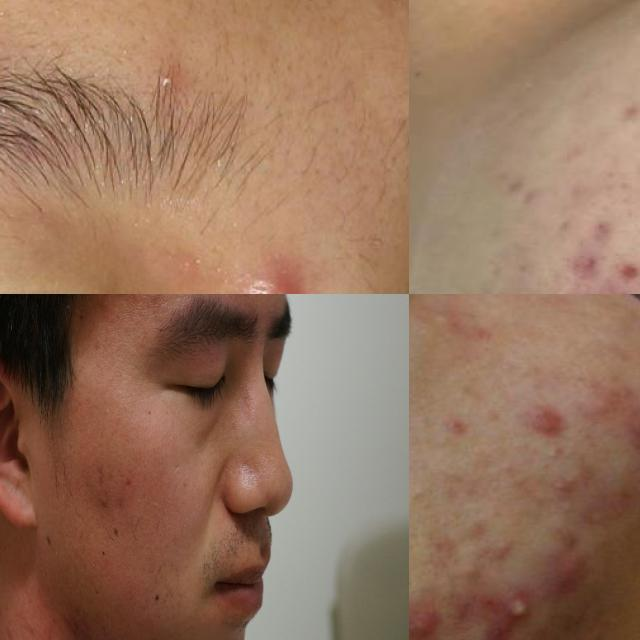acne_scars: (565, 249, 611, 286), (409, 606, 454, 640), (611, 245, 640, 294)
comedone: (112, 524, 123, 546), (153, 593, 164, 608)
papule: (516, 394, 586, 451)
sebo-crystan-conglo: (484, 577, 555, 640)
